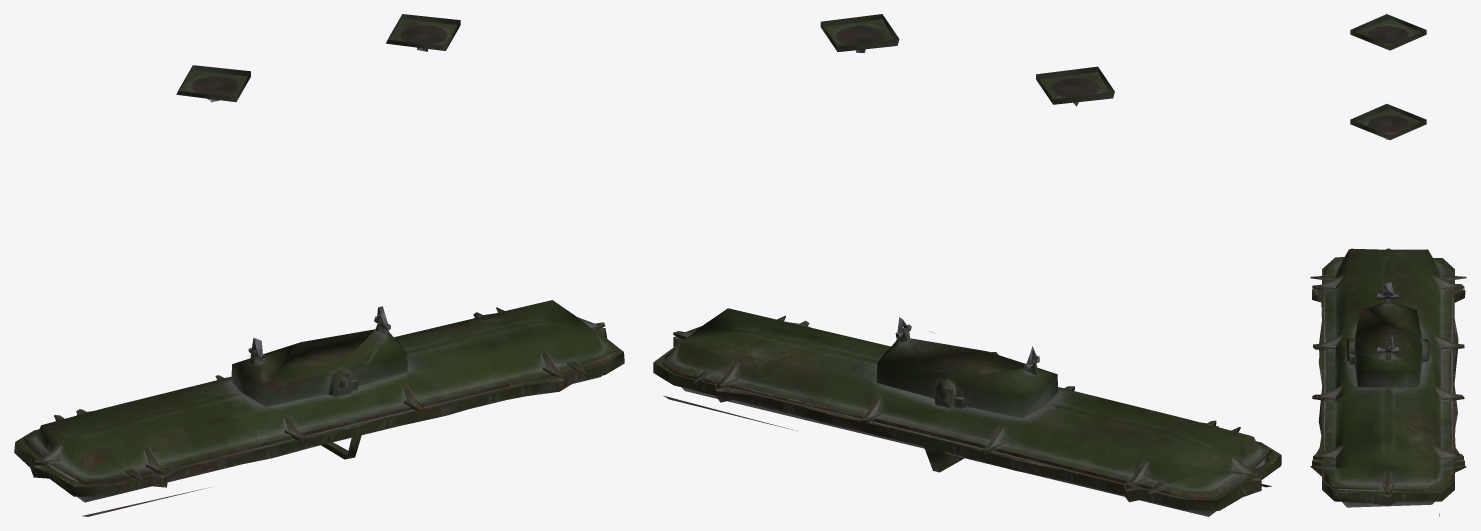
Rendered from hanging.glb.
3 renders of one model, left to right at view 1: azimuth 30°, elevation 25°; view 2: azimuth 150°, elevation 25°; view 3: azimuth 270°, elevation 25°, orthographic. The views are drawn at different scales.
Parts seen in each view (by area): view 1: caged_hanging_light; view 2: caged_hanging_light; view 3: caged_hanging_light.
Part boxes in pixels (<box>): caged_hanging_light: <box>14,14,624,516</box>; caged_hanging_light: <box>653,14,1281,516</box>; caged_hanging_light: <box>1310,14,1466,516</box>.
Size of the model in its own units: 1.16 by 0.7501 by 0.3149.
Materials: 1 (1 with a texture image).
